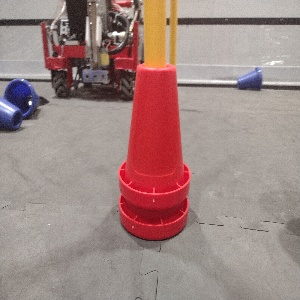Blue_1: (2, 78, 42, 115), (234, 64, 264, 92), (0, 96, 21, 130)
Red_2: (113, 61, 191, 242)
